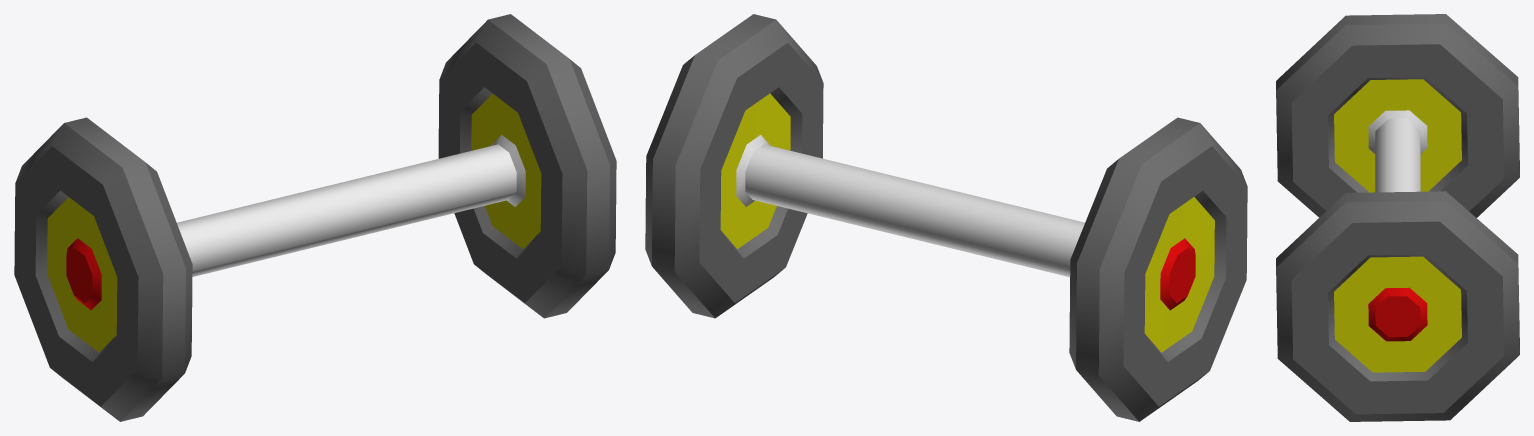
File: Waiter_Wheel.fbx
The picture shows the model from 3 angles, left to right: view 1: azimuth 30°, elevation 25°; view 2: azimuth 150°, elevation 25°; view 3: azimuth 270°, elevation 25°; orthographic projection. The views are drawn at different scales.
Parts seen in each view (by area): view 1: Waiter_Wheel; view 2: Waiter_Wheel; view 3: Waiter_Wheel.
Part boxes in pixels (x1=…): Waiter_Wheel: x1=14, y1=14, x2=616, y2=421; Waiter_Wheel: x1=645, y1=14, x2=1247, y2=421; Waiter_Wheel: x1=1276, y1=14, x2=1519, y2=421.
Size of the model in its own units: 116 by 60.02 by 60.02.
